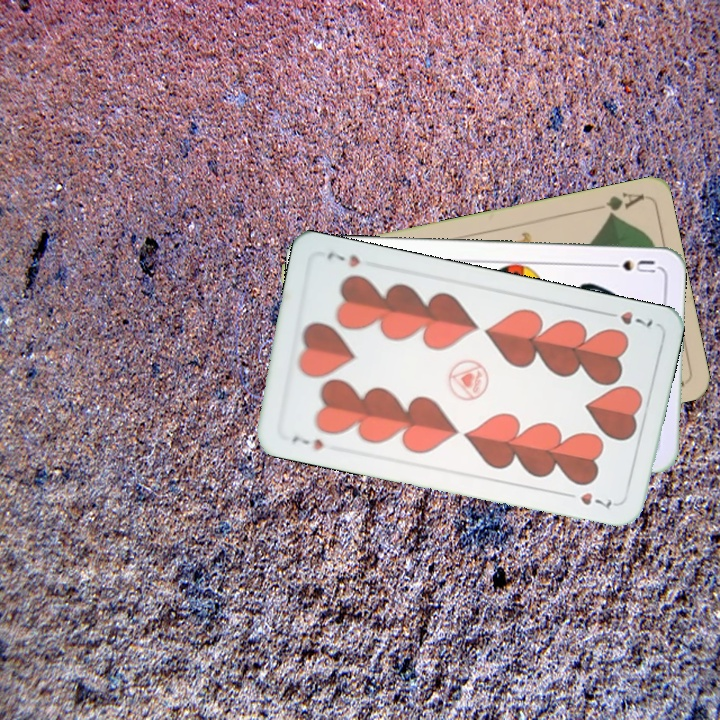GA: (601, 188, 646, 220)
H7: (600, 307, 656, 330), (288, 432, 327, 453)
SU: (601, 256, 659, 277)
